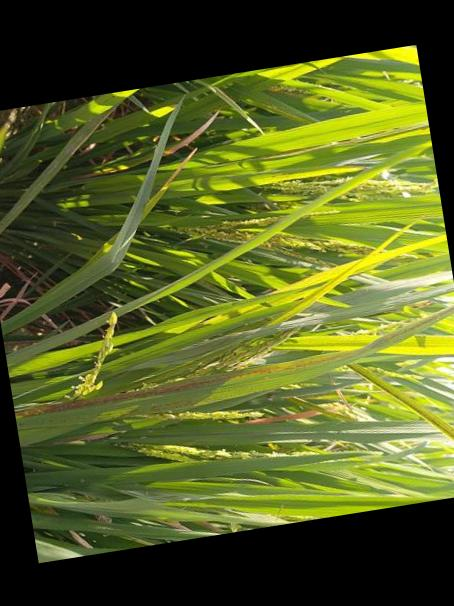Leaf Streak: (14, 351, 359, 417)
